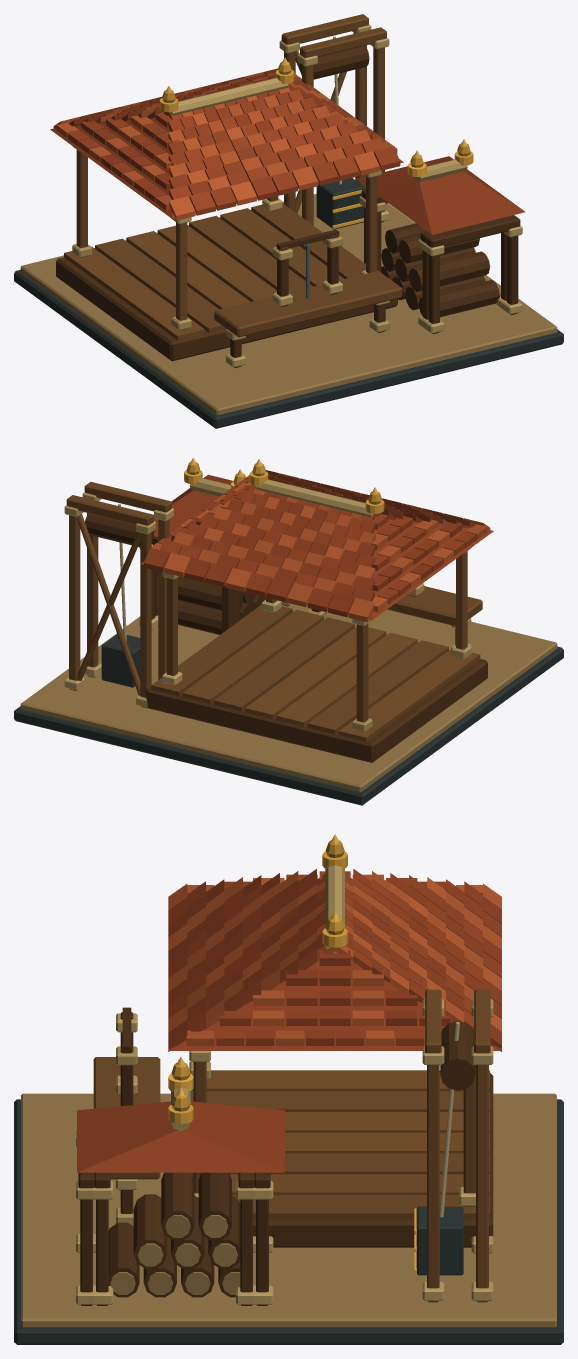
3 renders of one model, top to bottom at view 1: azimuth 30°, elevation 25°; view 2: azimuth 150°, elevation 25°; view 3: azimuth 270°, elevation 25°, orthographic. The views are drawn at different scales.
Parts seen in each view (by area): view 1: lumber_5_structure, lumber_5_metal; view 2: lumber_5_structure, lumber_5_metal; view 3: lumber_5_structure, lumber_5_metal.
Part boxes in pixels (x1,y1,x2,y2): lumber_5_structure: [14, 14, 563, 428]; lumber_5_metal: [159, 57, 473, 228]; lumber_5_structure: [14, 462, 563, 805]; lumber_5_metal: [151, 457, 384, 673]; lumber_5_structure: [14, 840, 563, 1344]; lumber_5_metal: [168, 834, 416, 1273].
Bounding box in the file's own units: 5.6 × 3.68 × 5.6.
